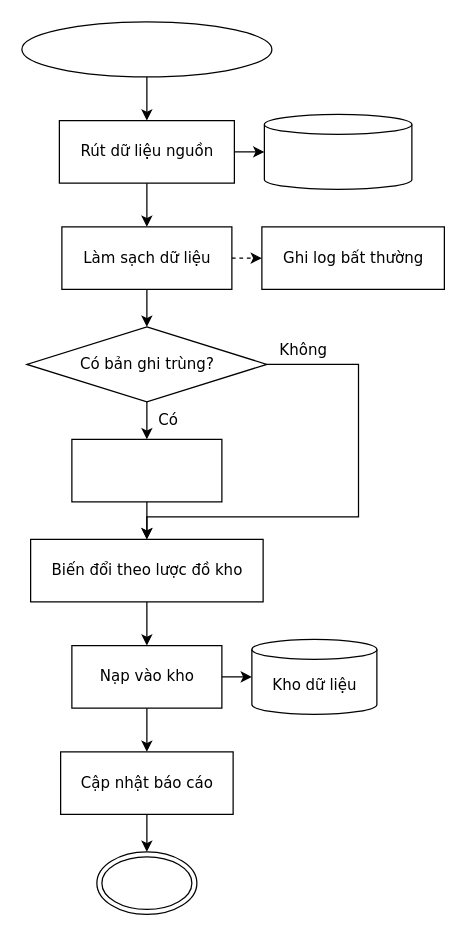
This 466x936 diagram has some shape labels left out. Each missing label, with the centre of its shape:
"CSDL bán hàng" goes at point 337,151.
"Loại trùng" goes at point 146,470.
"Lịch chạy 2 giờ sáng" goes at point 146,49.
"Xong" goes at point 146,882.
